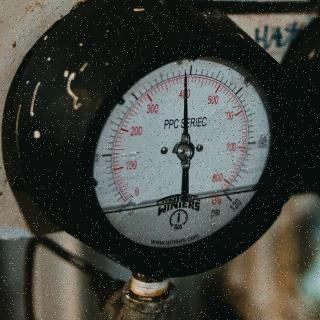gauge: (79, 3, 313, 277), (114, 187, 144, 218), (210, 183, 240, 210), (173, 141, 196, 161), (181, 68, 189, 78)
